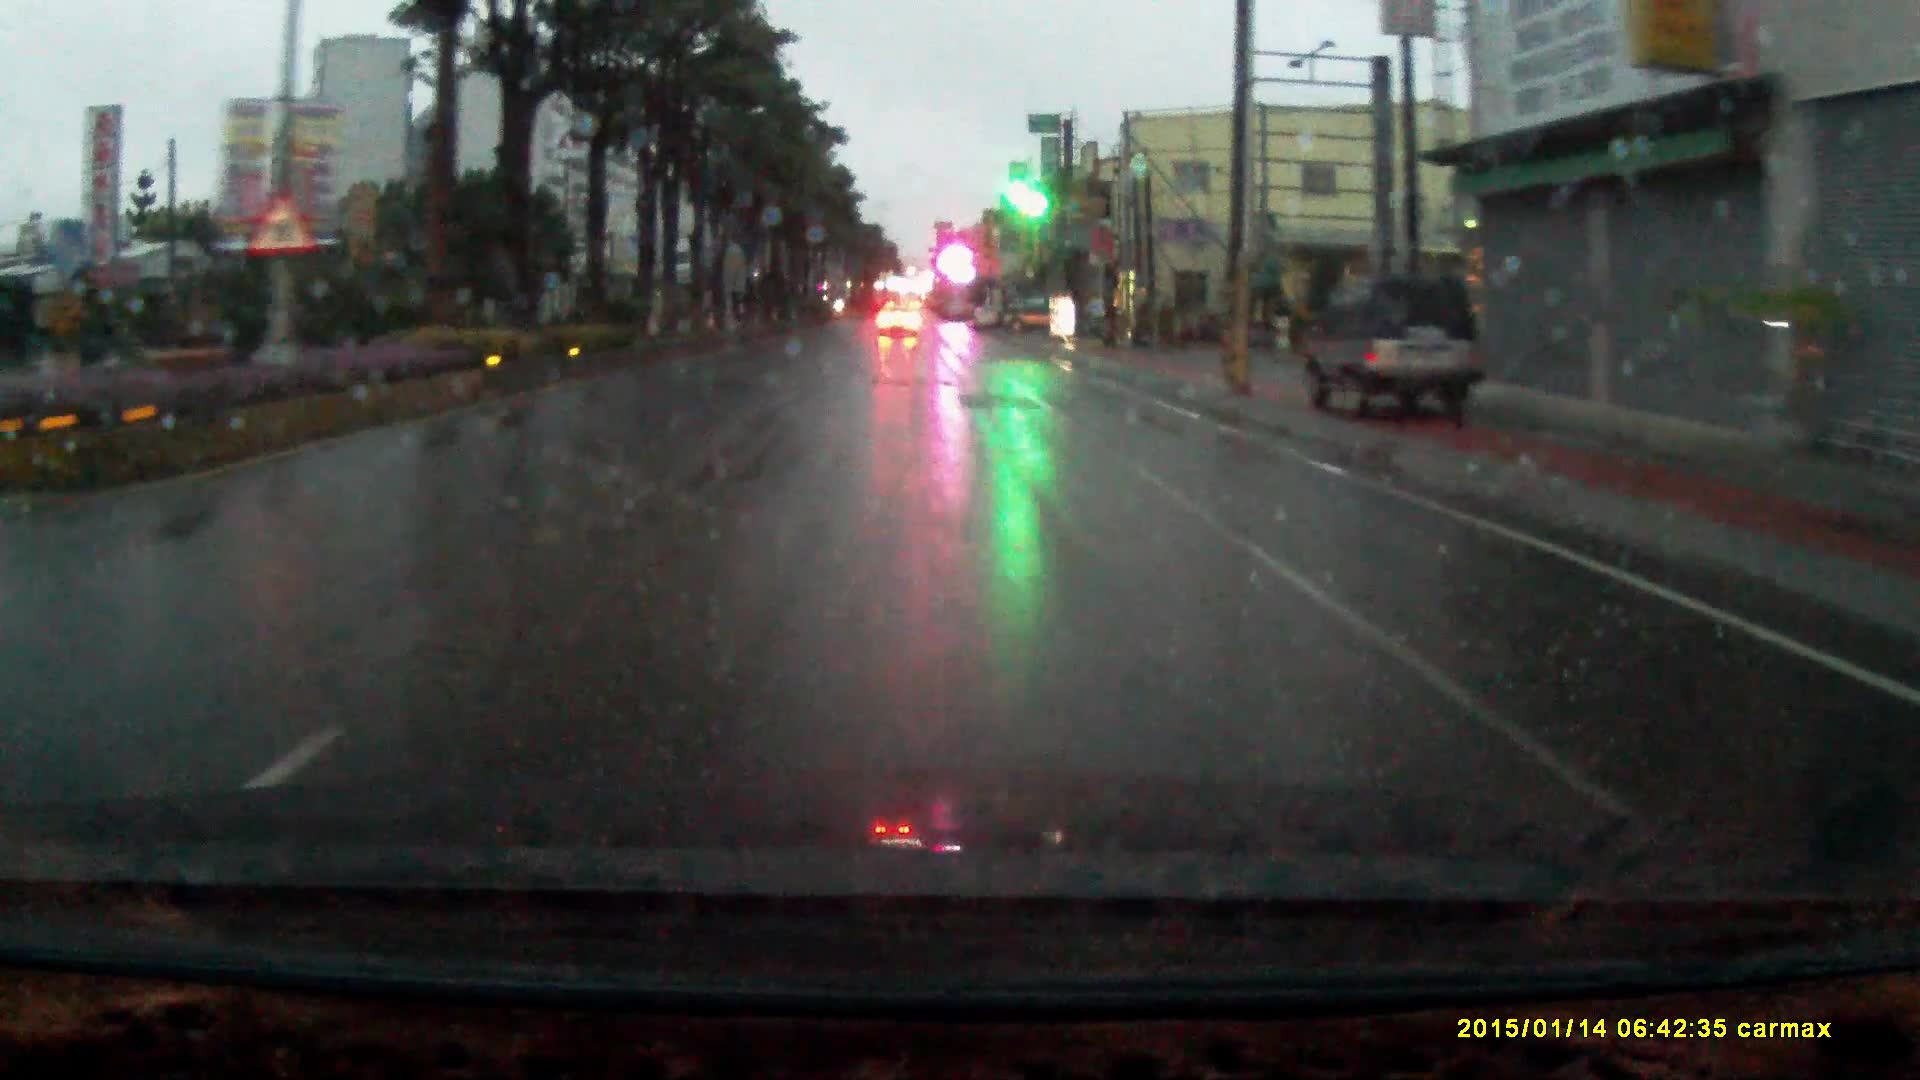vehicle: (1302, 276, 1489, 421), (878, 305, 922, 339)
